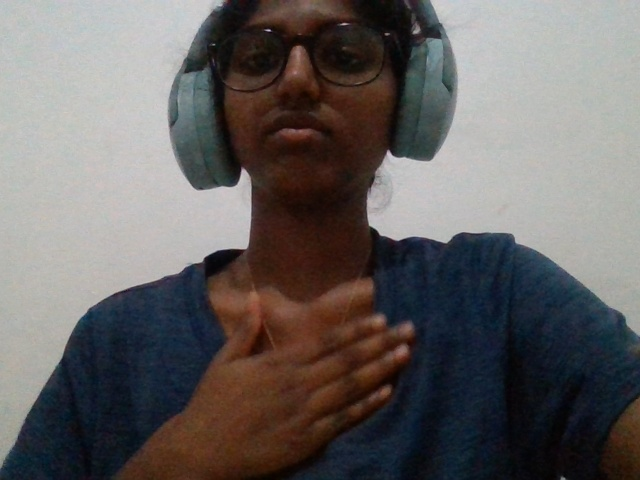Please: (128, 265, 459, 470)
